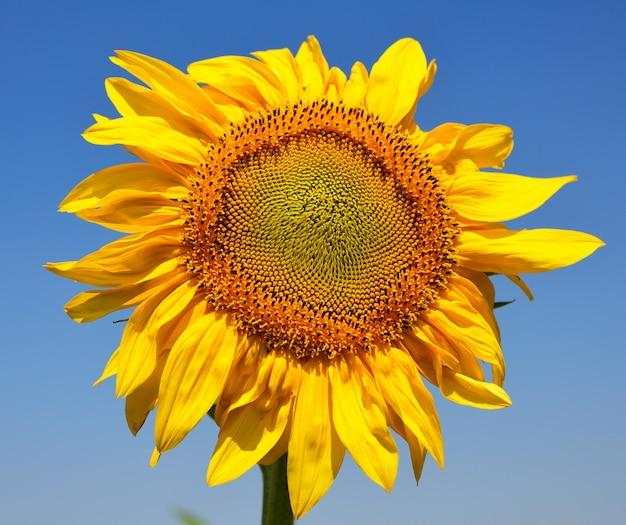sunflowers: (57, 25, 598, 504)
